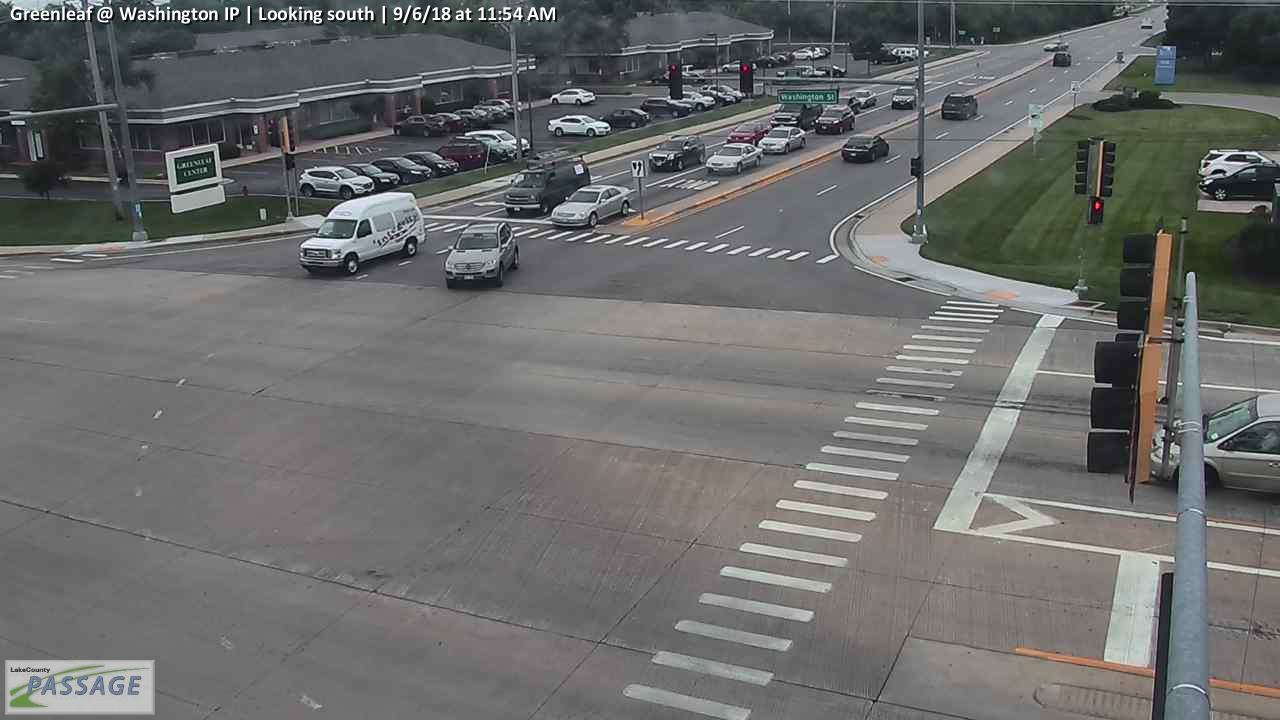SUV: (1147, 393, 1280, 499), (298, 190, 425, 275), (505, 149, 590, 218), (443, 221, 520, 288), (297, 164, 375, 200), (1197, 147, 1280, 178), (448, 134, 515, 166), (649, 134, 706, 171), (463, 129, 531, 159), (769, 96, 823, 133), (433, 139, 484, 174), (393, 114, 451, 139), (813, 104, 855, 135), (639, 96, 694, 119), (667, 89, 716, 113), (597, 108, 649, 130), (449, 108, 492, 132), (941, 93, 978, 120), (892, 86, 917, 110), (790, 65, 825, 80), (789, 49, 813, 61), (1052, 53, 1071, 66)
Sedan: (550, 184, 632, 230), (1197, 162, 1280, 200), (366, 156, 432, 185), (706, 142, 762, 176), (341, 163, 400, 190), (546, 114, 611, 138), (400, 151, 460, 175), (842, 135, 890, 164), (758, 126, 807, 154), (726, 120, 771, 145), (550, 88, 596, 105), (849, 88, 877, 110), (817, 63, 847, 77), (1044, 39, 1069, 51)
